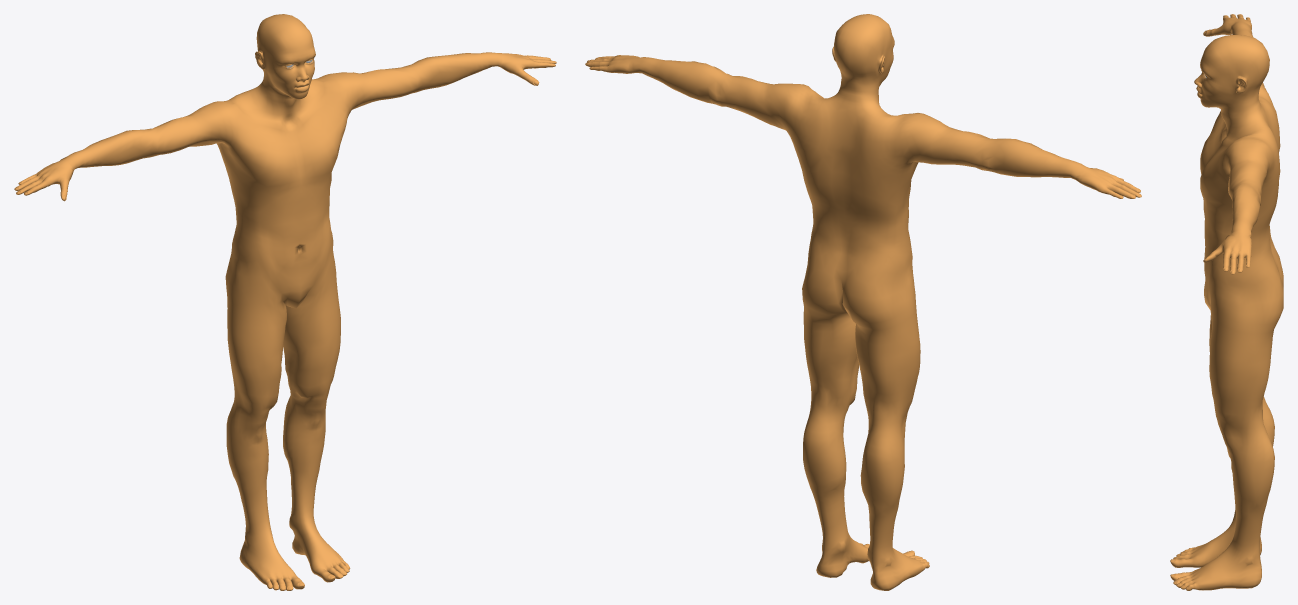
File: human.obj
3 views of the same model, side by side, from view 1: azimuth 30°, elevation 25°; view 2: azimuth 150°, elevation 25°; view 3: azimuth 270°, elevation 25° (orthographic). The views are drawn at different scales.
Visible parts, largest first — view 1: human_male_base03; view 2: human_male_base03; view 3: human_male_base03.
Part boxes in pixels (bbox=[...]): human_male_base03: bbox=[14, 14, 556, 590]; human_male_base03: bbox=[585, 14, 1141, 590]; human_male_base03: bbox=[1170, 14, 1283, 590].
Bounding box in the file's own units: 1.83 × 1.77 × 0.3384.
